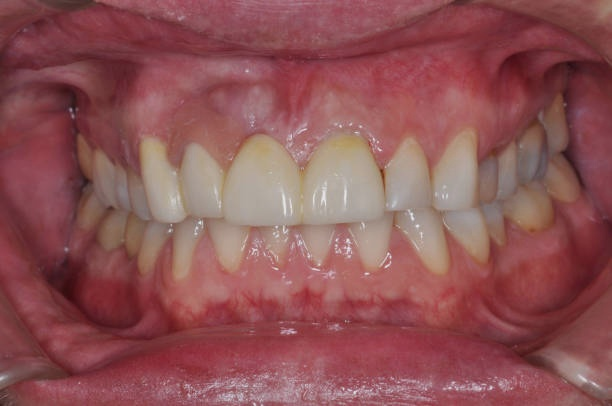Gingivitis: (158, 281, 449, 324), (259, 62, 332, 113)
